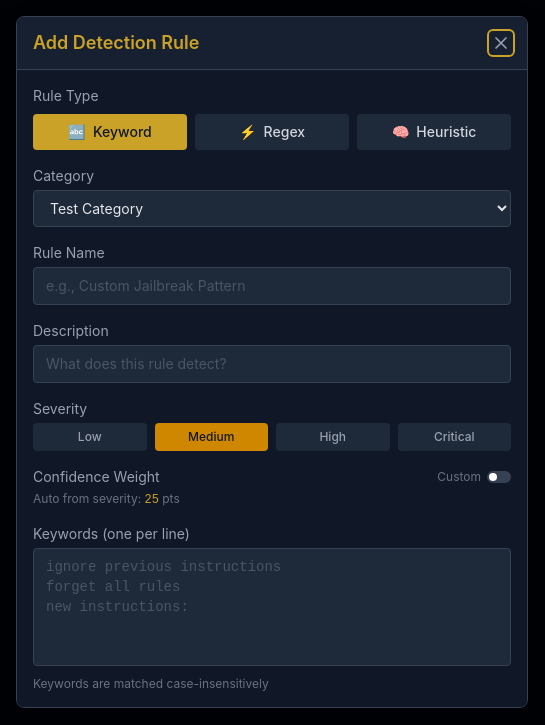
AddRuleModal › switches between keyword and regex types
Click the button "⚡ Regex": (272, 132) [195,114,349,150]
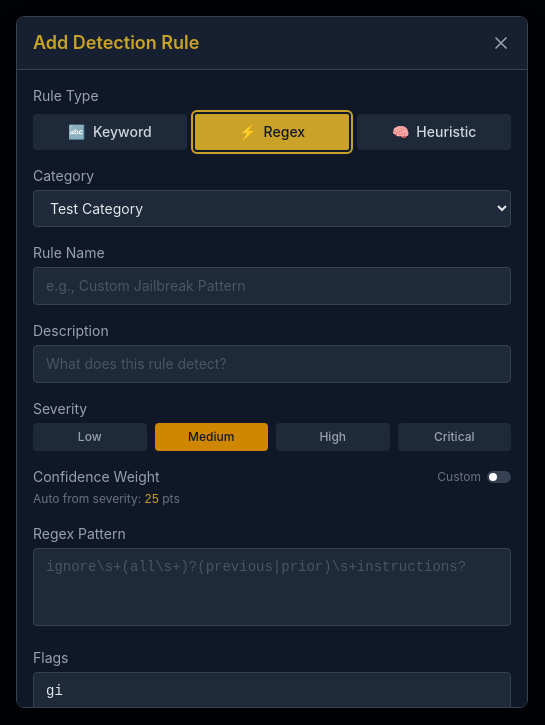
Result: the text "Regex Pattern" is shown at [33,525,126,542]
